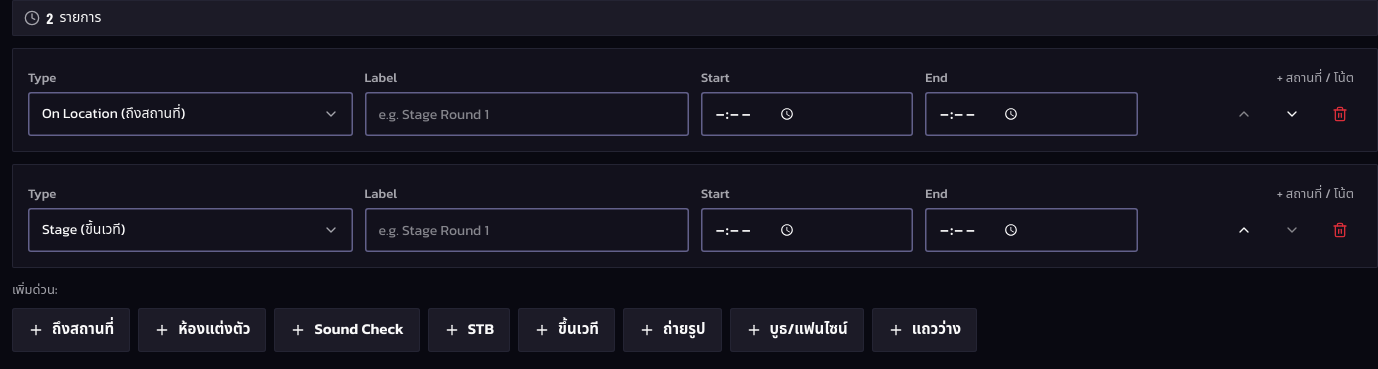
Test: desktop call sheet vs a server that is up and answering badly › a 503 HTML page on a retyped row is queued for replay, and the tab says saved
This screenshot has width=1378, height=369.
Type "ถึงหน้างาน" into the 1st field labelled "Label". click: (527, 114)
box: [364,92,689,136]
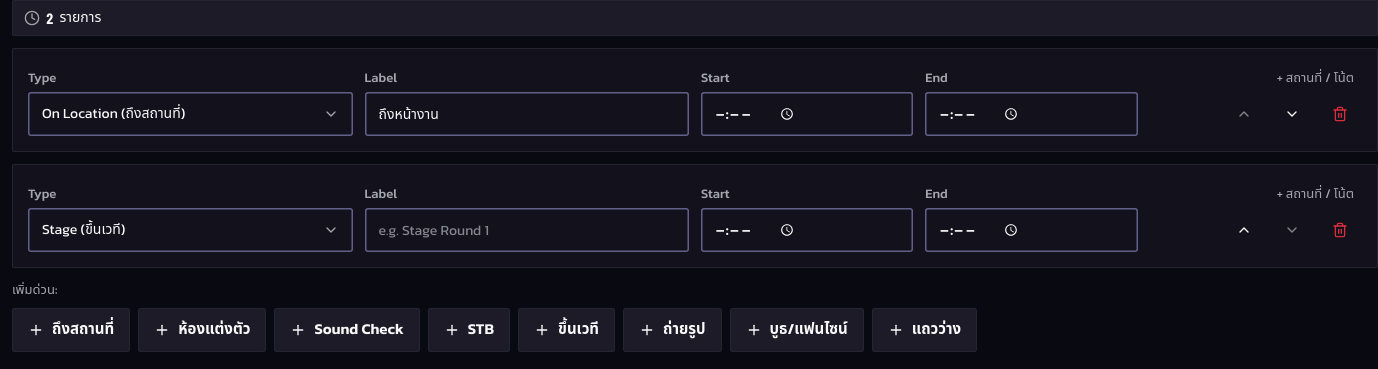
Leave the 1st field labelled "Label", box [364,92,689,136]
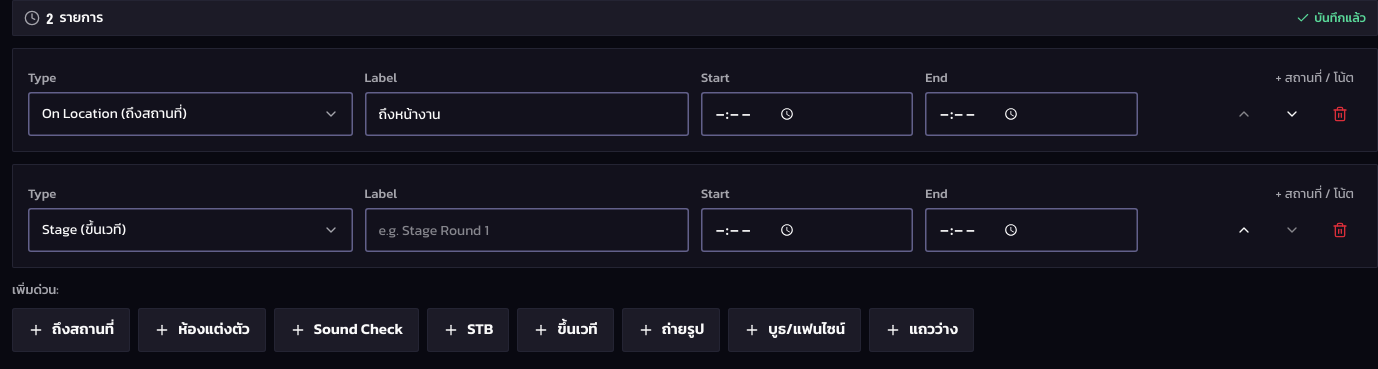
Result: the text "บันทึกแล้ว" is shown at [1296,8,1366,28]
